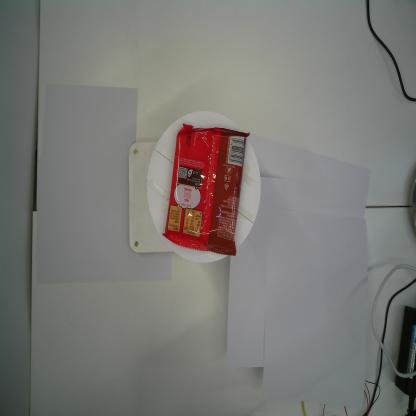Dessert: (161, 122, 252, 258)
